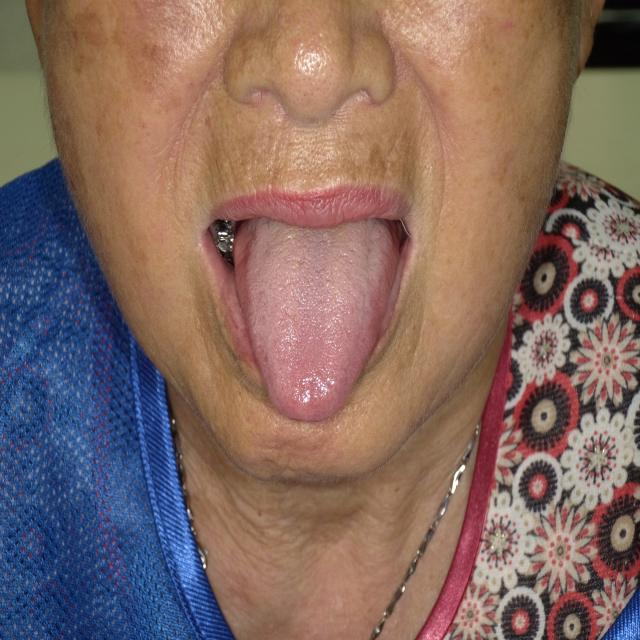baitaishe: (233, 219, 401, 421)
gandanao: (235, 230, 271, 369)
